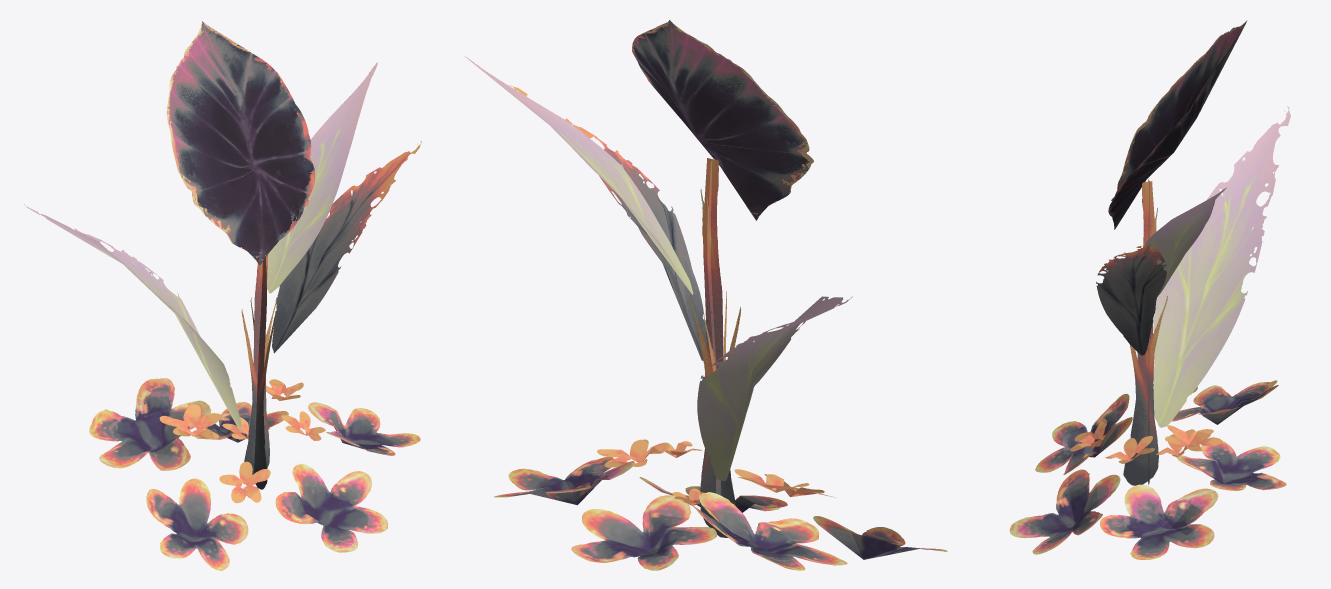
3 views of the same model, side by side, from view 1: azimuth 30°, elevation 25°; view 2: azimuth 150°, elevation 25°; view 3: azimuth 270°, elevation 25° (orthographic). The views are drawn at different scales.
Visible parts, largest first — view 1: C01; view 2: C01; view 3: C01.
Part boxes in pixels (<box>): C01: <box>24,21,421,570</box>; C01: <box>464,20,947,570</box>; C01: <box>1009,20,1290,559</box>.
Size of the model in its own units: 677 by 857 by 478.
